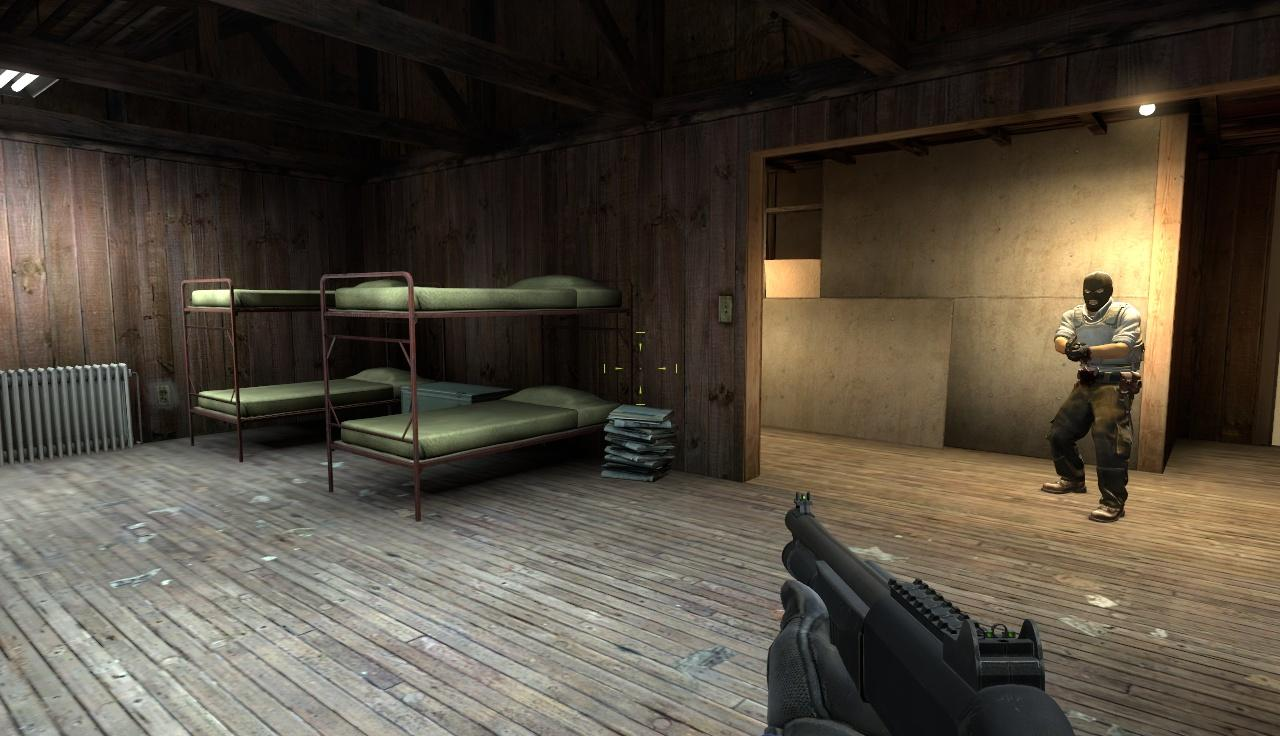shotgun: (764, 491, 1074, 736)
tt: (1057, 273, 1141, 519)
tthead: (1083, 275, 1112, 310)
